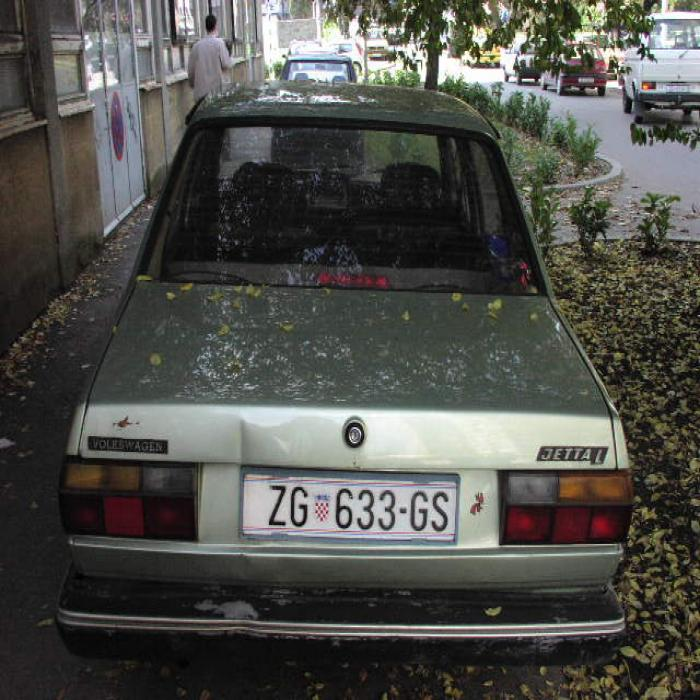number_plate: (242, 473, 454, 540)
